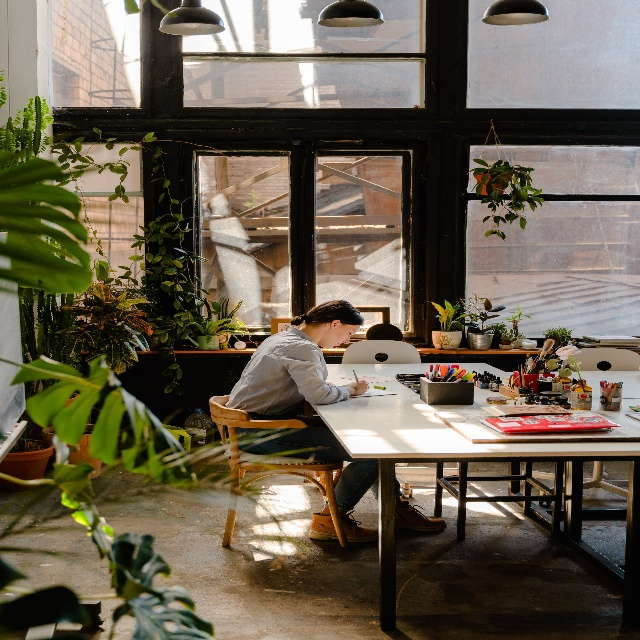Sin_guantes: (351, 377, 369, 398)
